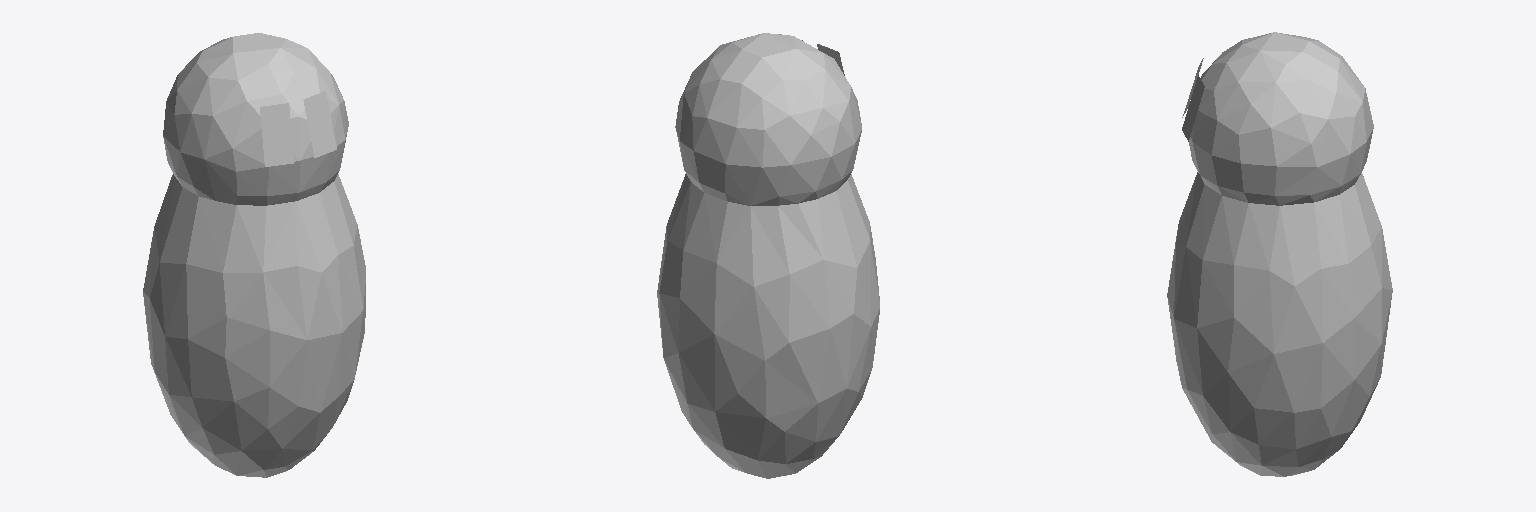
Rendered from leafy.lod1.obj.
3 renders of one model, left to right at view 1: azimuth 30°, elevation 25°; view 2: azimuth 150°, elevation 25°; view 3: azimuth 270°, elevation 25°, orthographic.
Visible parts, largest first — view 1: leafy; view 2: leafy; view 3: leafy.
Part boxes in pixels (x1,y1,x2,y2): leafy: (143,33,365,477); leafy: (657,33,879,478); leafy: (1167,32,1392,476).
Size of the model in its own units: 0.5774 by 1.2 by 0.581.